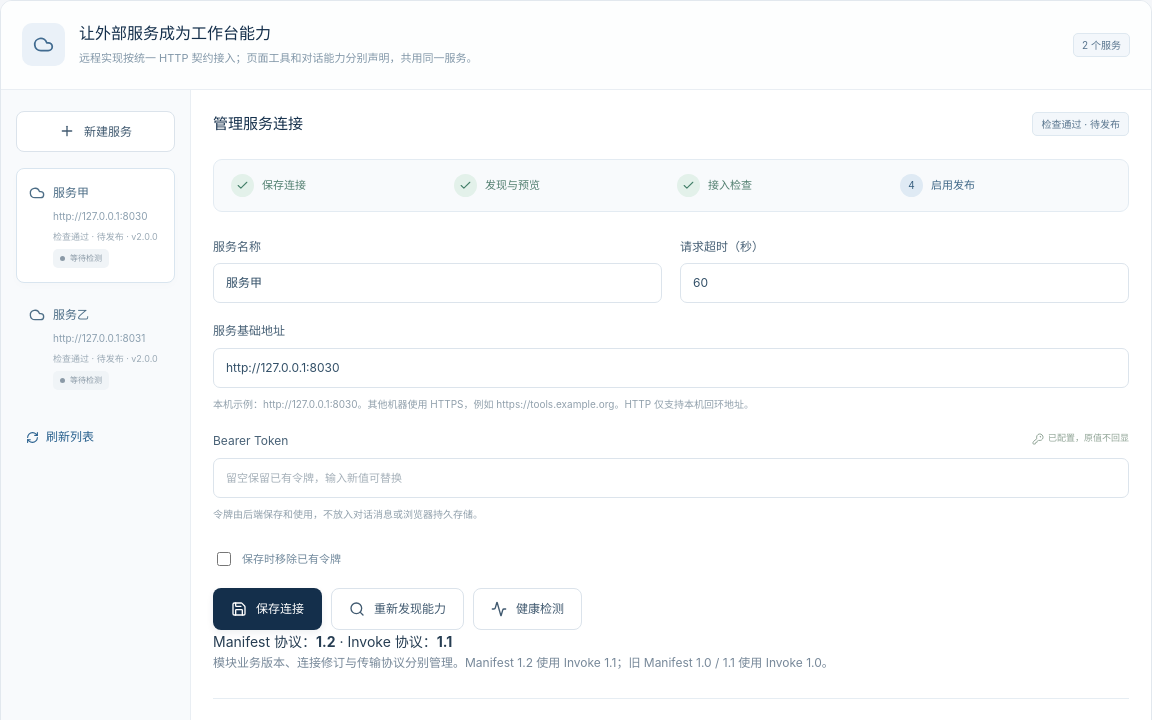
it: 远程连接管理的修订与异步边界 › 手动刷新期间切换服务，晚到列表不会把编辑器切回原服务
expect the field showing "服务甲" is shown: met, box [213, 263, 662, 303]
Click the button "刷新列表": {"x": 60, "y": 437} [26, 424, 94, 450]
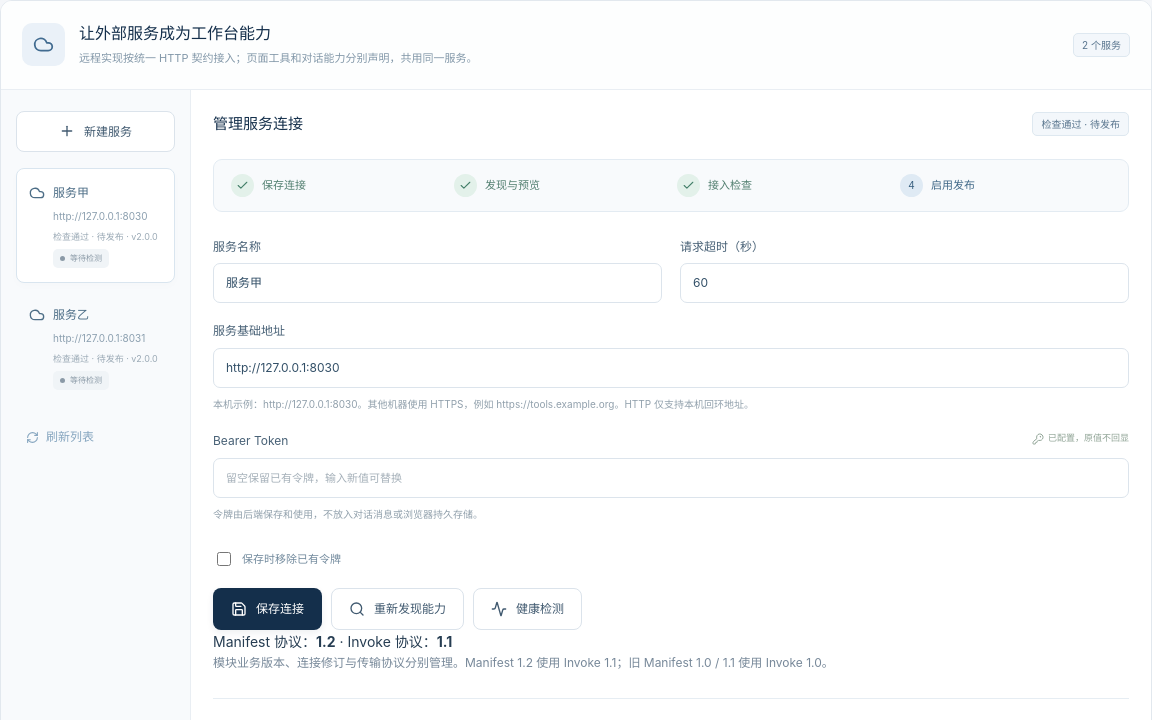
Click the button "服务乙 http://127.0.0.1:8031 检查通过 · 待发布 · v2.0.0 等待检测": {"x": 96, "y": 348} [16, 290, 175, 405]
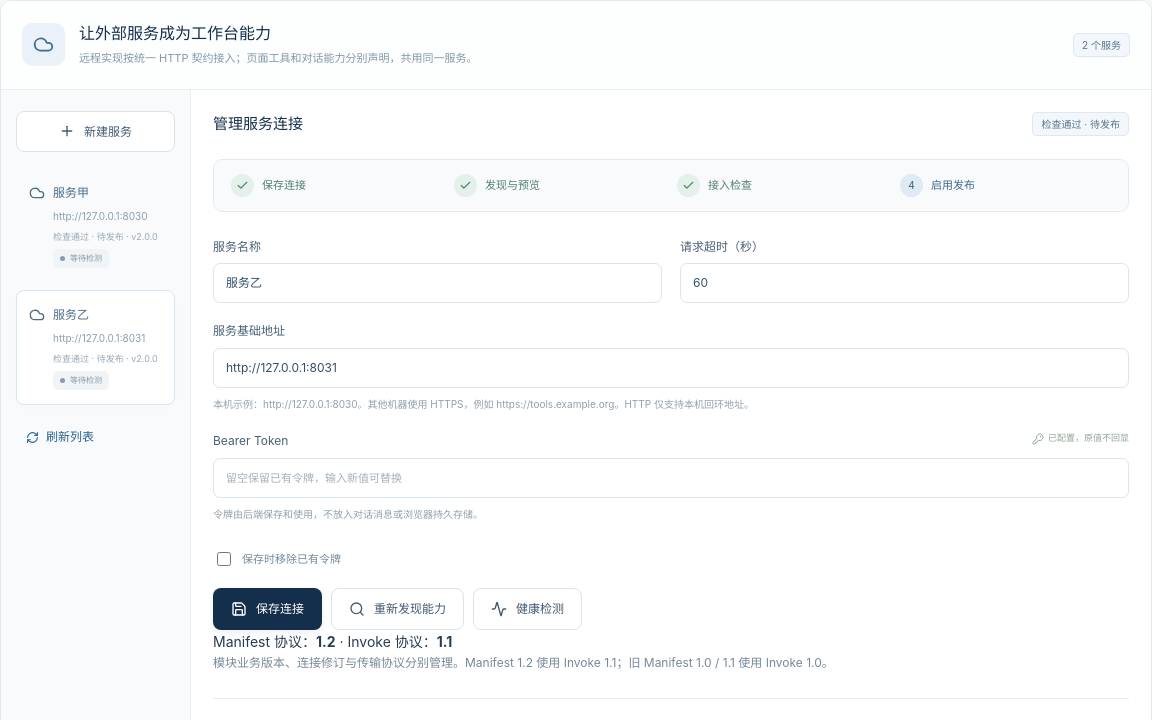
expect the field labelled "服务名称" holds "服务乙": met, box [213, 263, 662, 303]
